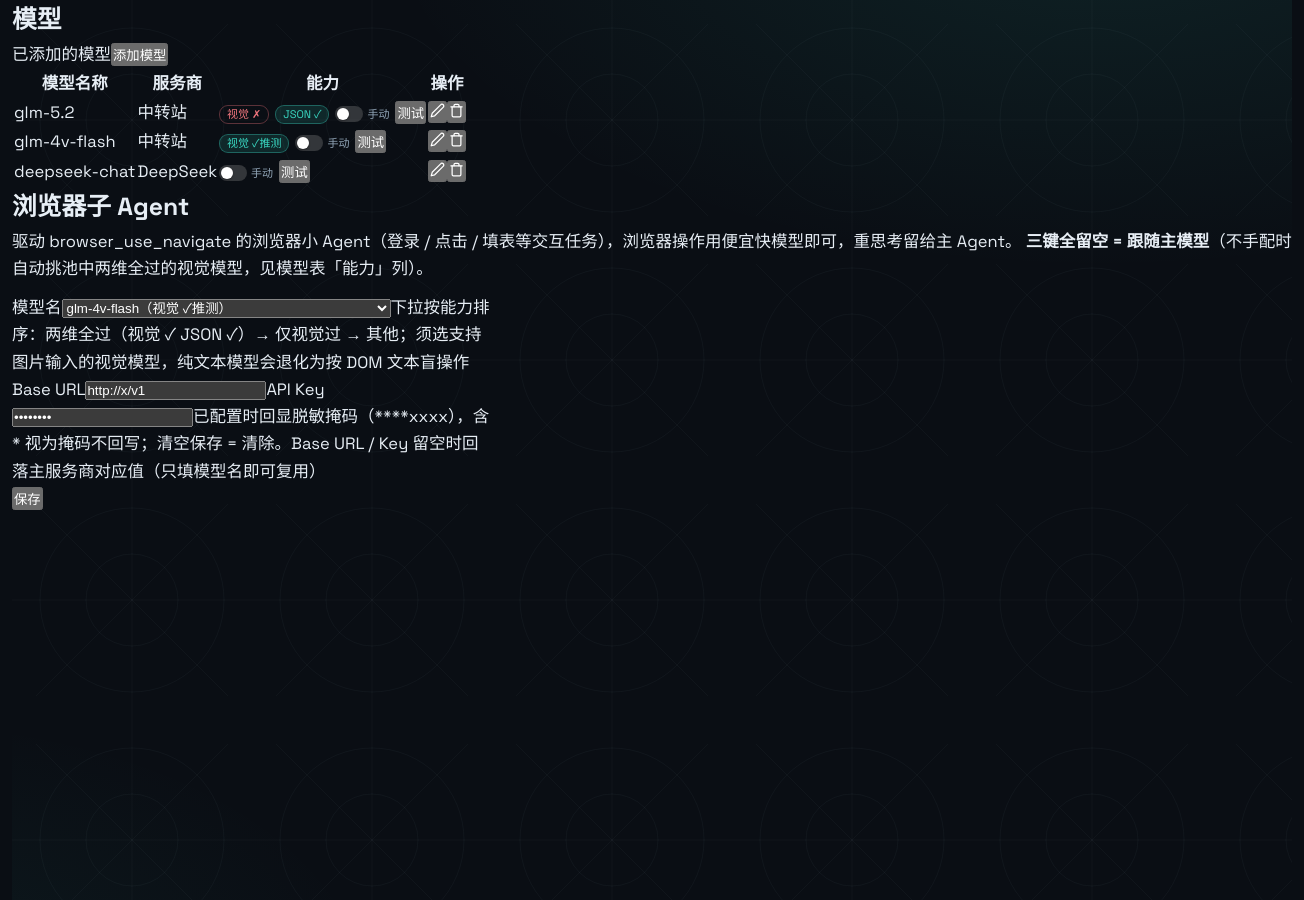
it: SettingsModels：获取模型列表 › Base URL 合法 + 有 Key 时显示获取按钮，点击调 discoverModels 并给出提示
Click the button "添加模型": click(140, 54) 111,43 -> 168,66
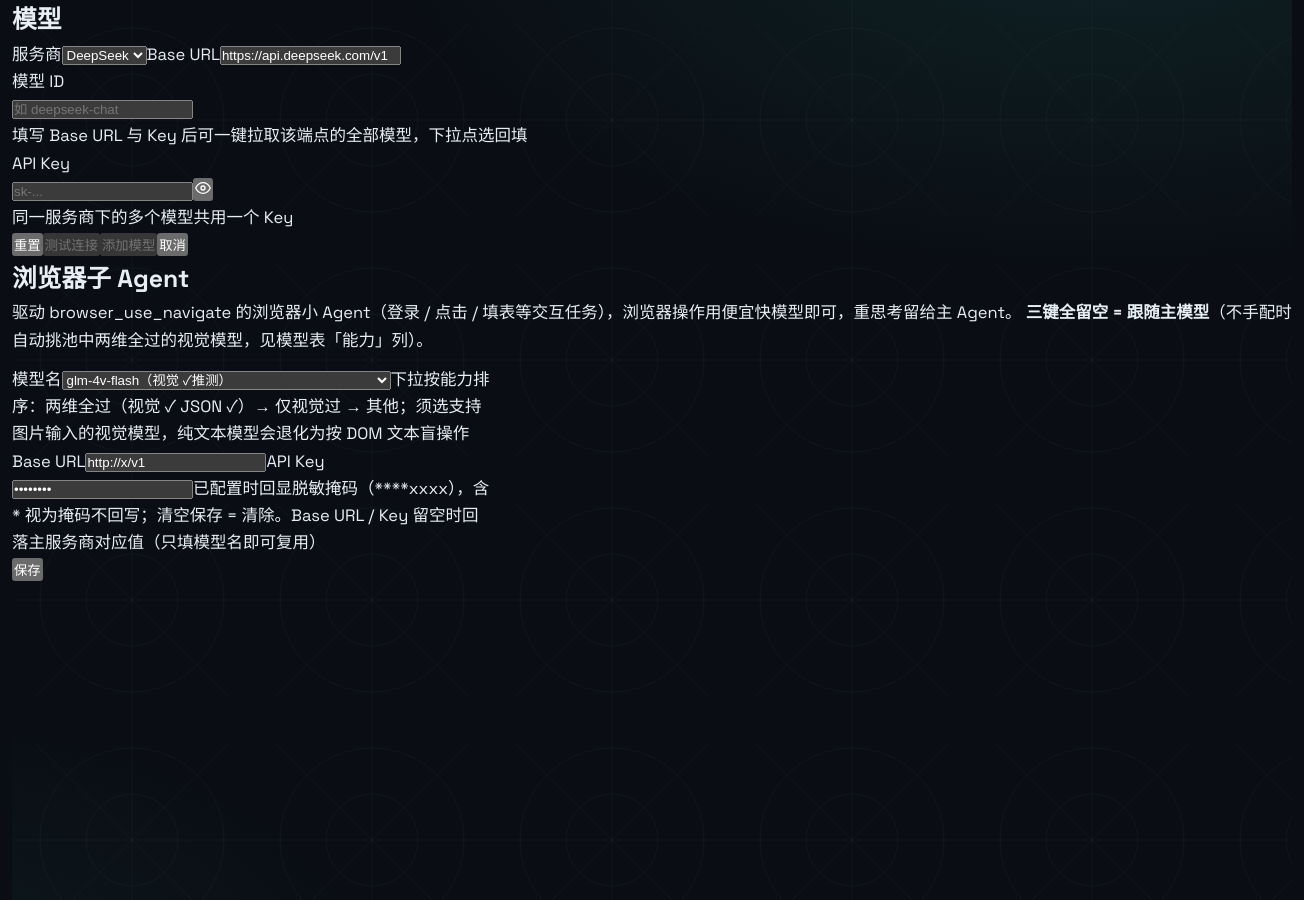
// 填入 Key → 可获取
In the password field labelled "API Key 同一服务商下的多个模型共用一个 Key": (102, 191) 12,182 -> 193,201, type "sk-typed"
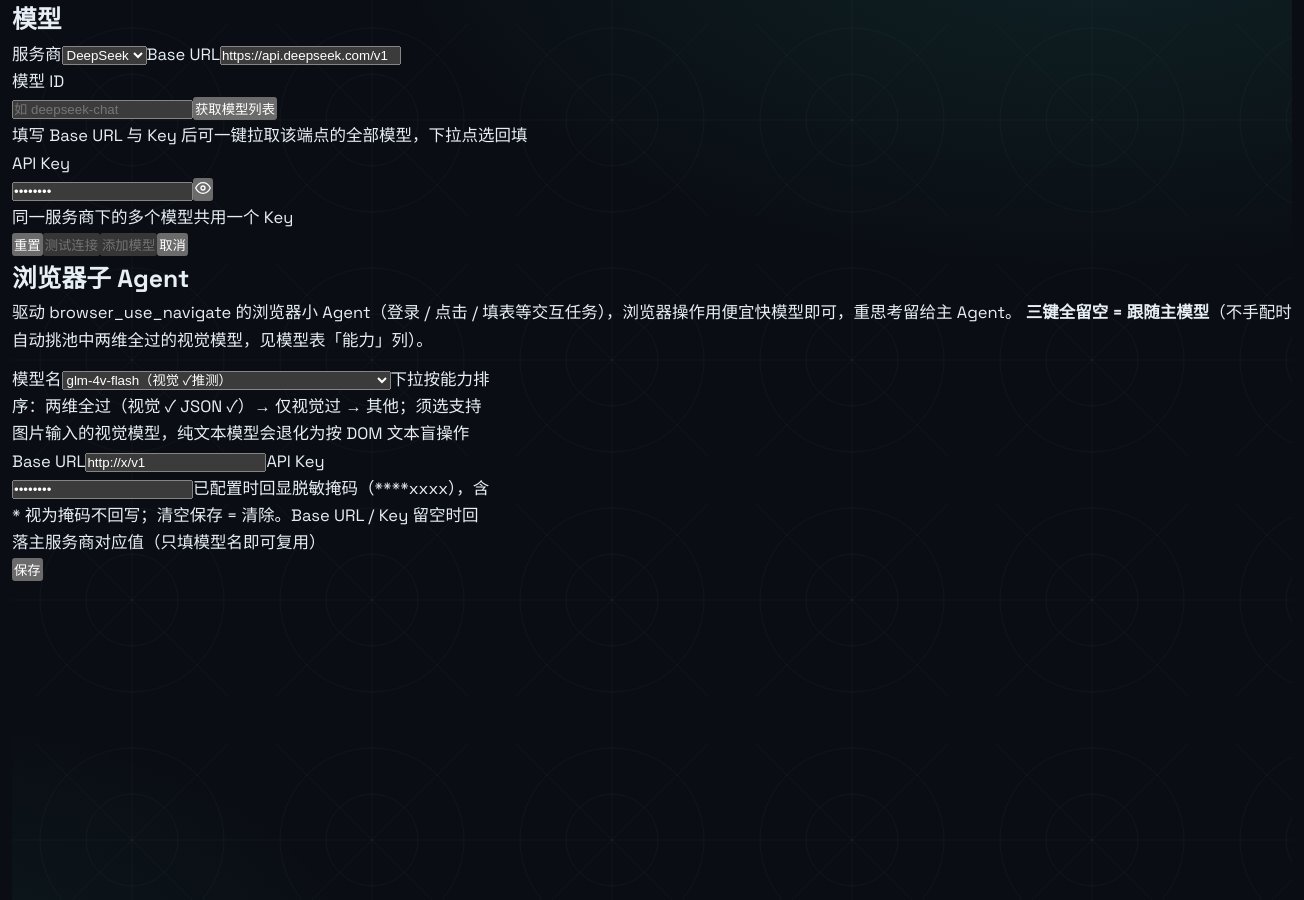
Now the button "获取模型列表" is shown
Click the button "获取模型列表": click(235, 109) 193,97 -> 277,120
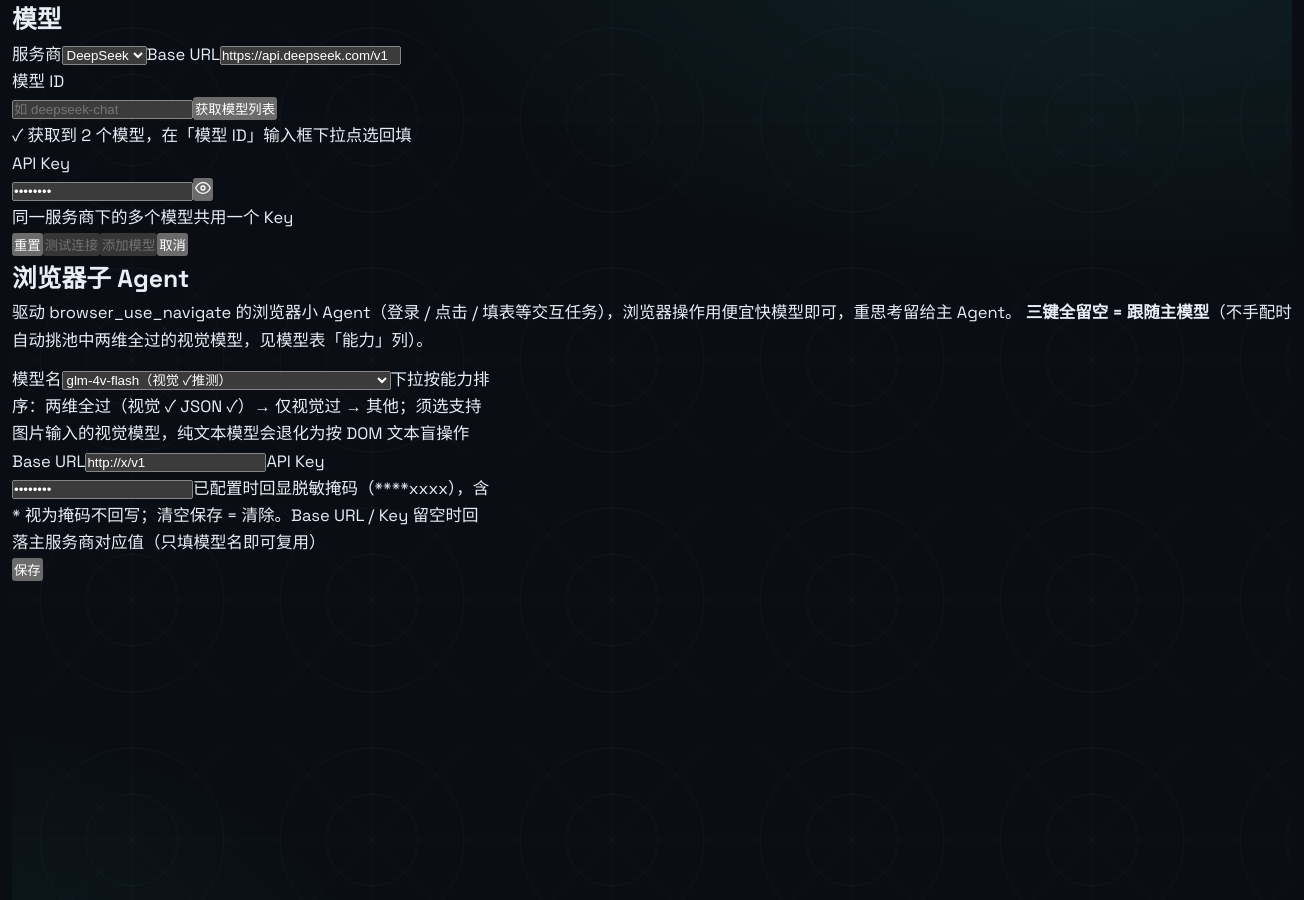
Now the text "获取到 2 个模型" is shown, box 12,126 -> 412,146
